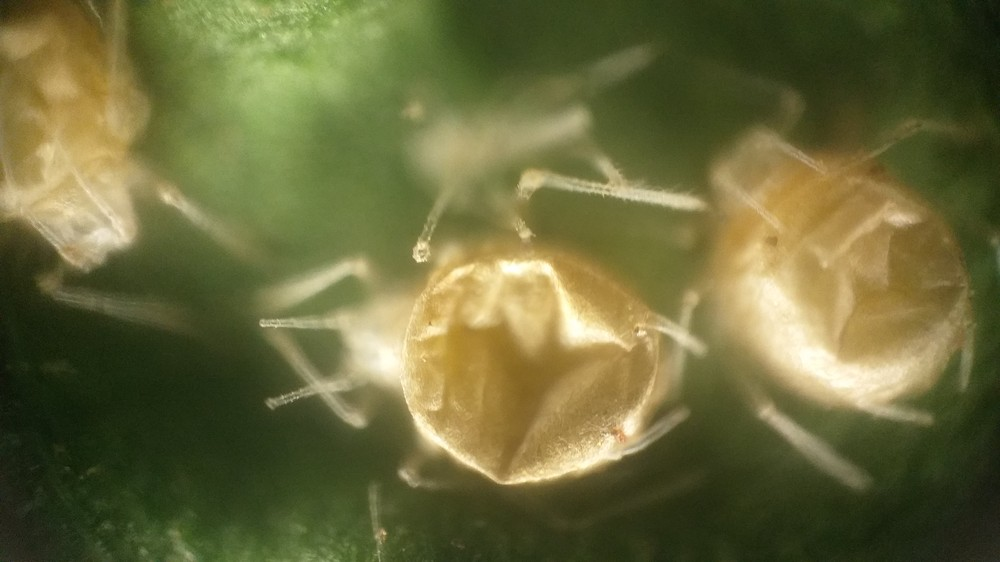Pulgon: (244, 144, 729, 527), (677, 88, 1000, 460), (1, 1, 271, 308)
